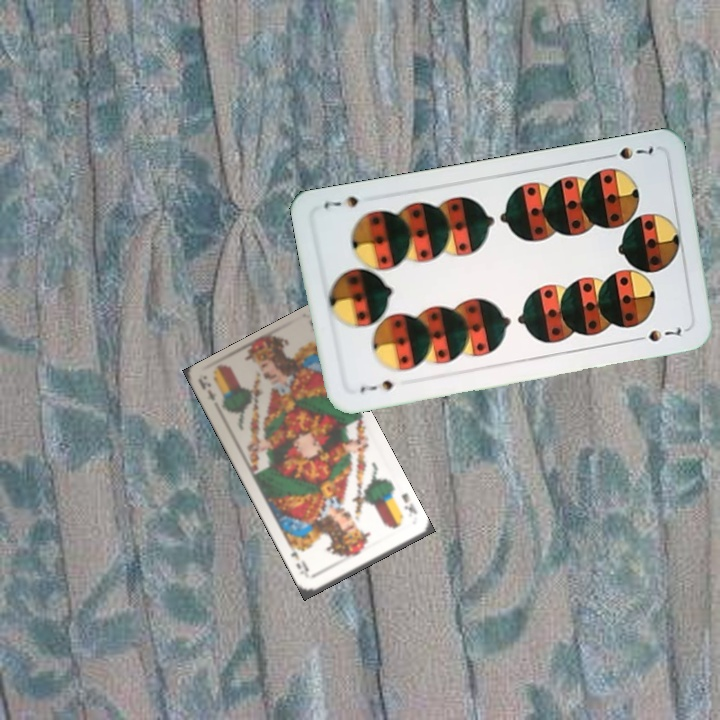EK: (398, 489, 420, 517), (195, 377, 218, 403)
S7: (600, 141, 656, 162), (356, 376, 396, 395)
